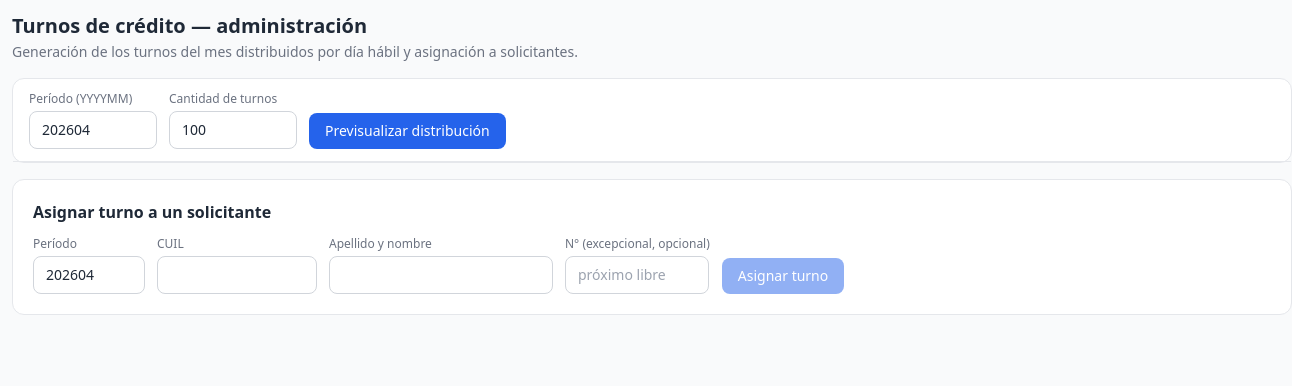
Scenario: Turnos de crédito · asignación › asigna el próximo turno libre a un CUIL
Type "20301234567" into the field labelled "CUIL" at (237, 275), box [157,256,317,294]
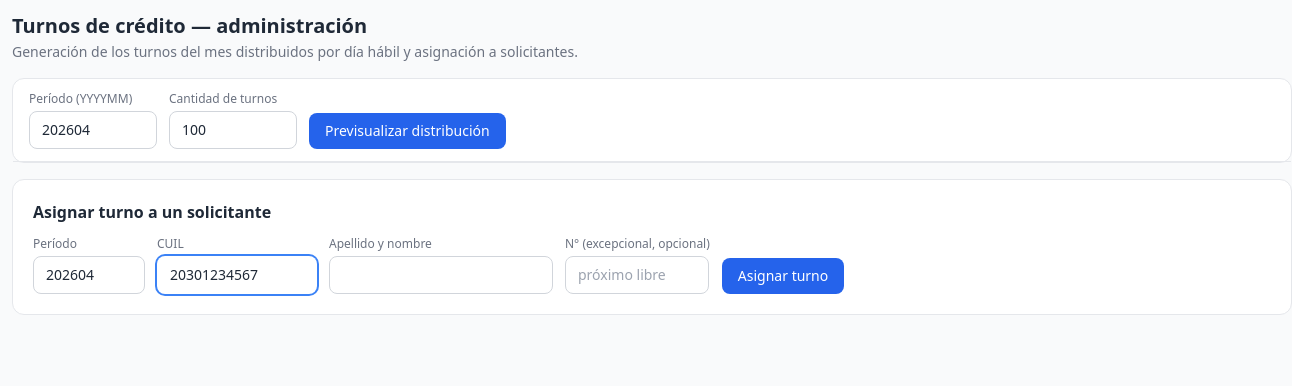
Type "PEREZ JUAN" into the field labelled "Apellido y nombre" at (441, 275), box [329,256,553,294]
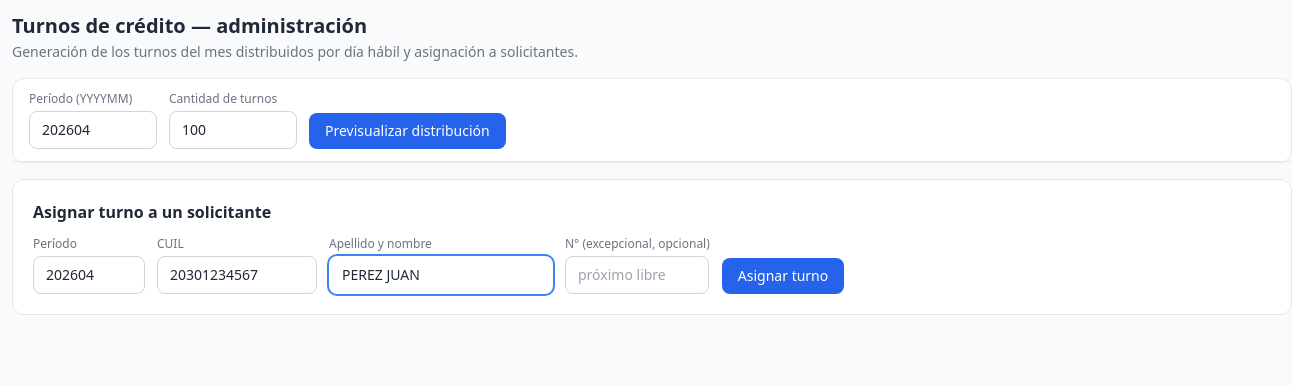
Click the button "Asignar turno" at (783, 276), box [722,258,844,294]
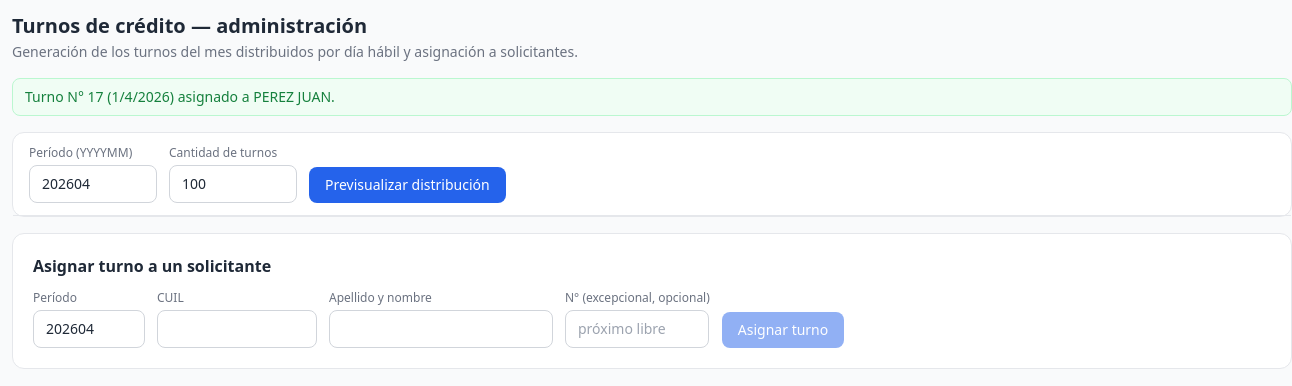
Result: the text "Turno N° 17 (1/4/2026) asignado a PEREZ JUAN." is shown at [12,78,1291,116]
